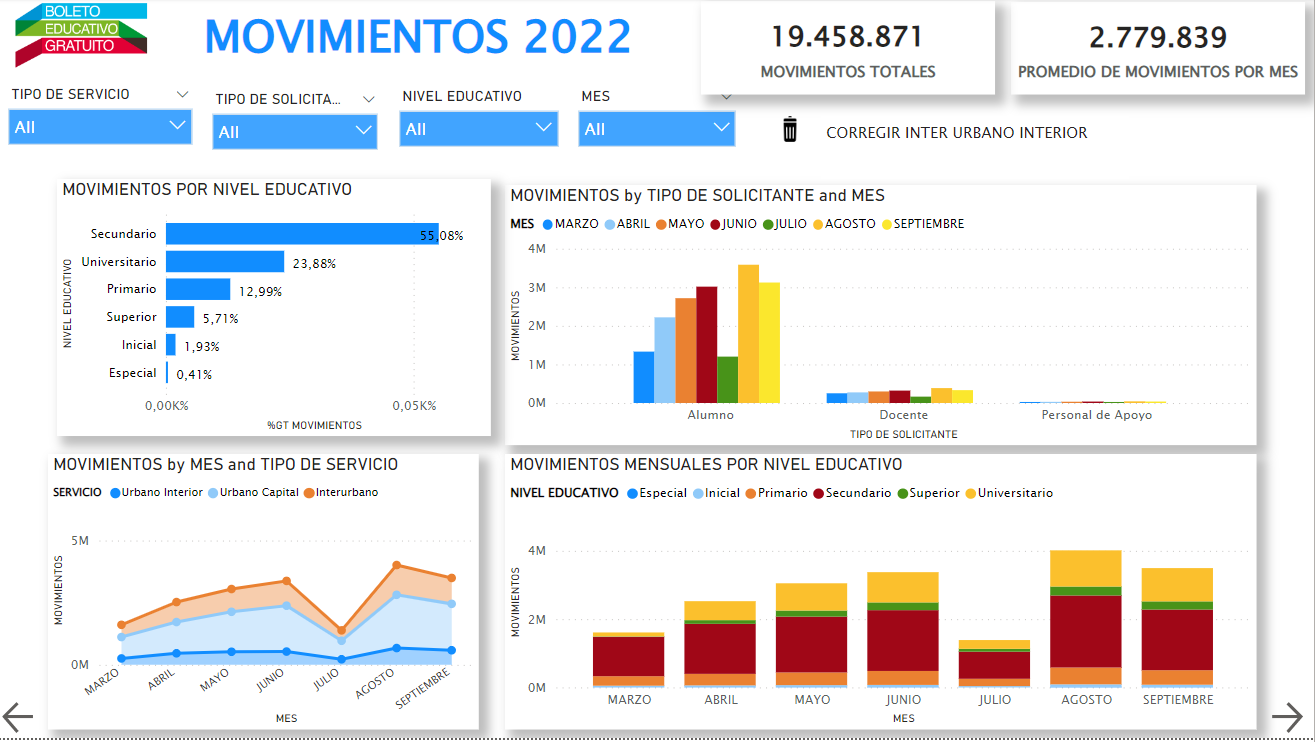

The dashboard page shown, as its layout file describes it:
{"tool":"powerbi","page":{"name":"MOVIMIENTOS","canvas":[1280,720],"ordinal":1},"visuals":[{"type":"clusteredColumnChart","fields":{"Category":["Movimientos.TIPO DE SOLICITANTE"],"Y":["Sum(Movimientos.MOVIMIENTOS)"],"Series":["Movimientos.MES"]},"box":[493.1,182.2,731.4,253.1],"z":0},{"type":"image","box":[0,0,162,80],"z":1000},{"type":"textbox","box":[189.2,0.9,438.8,80.6],"z":2000},{"type":"barChart","title":"MOVIMIENTOS POR NIVEL EDUCATIVO","fields":{"Category":["Movimientos.NIVEL EDUCATIVO"],"Y":["Divide(Sum(Movimientos.MOVIMIENTOS), ScopedEval(Sum(Movimientos.MOVIMIENTOS), []))"]},"box":[56.9,176.1,422.2,249.6],"z":3000},{"type":"lineStackedColumnComboChart","title":"MOVIMIENTOS MENSUALES POR NIVEL EDUCATIVO","fields":{"Y":["Sum(Movimientos.MOVIMIENTOS)"],"Category":["Movimientos.MES"],"Series":["Movimientos.NIVEL EDUCATIVO"]},"box":[493.1,443.2,731.4,268],"z":4000},{"type":"slicer","fields":{"Values":["Movimientos.MES"]},"box":[391.1,81.9,173.6,74.8],"z":6000},{"type":"stackedAreaChart","fields":{"Category":["Movimientos.MES"],"Y":["Sum(Movimientos.MOVIMIENTOS)"],"Series":["Movimientos.TIPO DE SERVICIO"]},"box":[48.2,443.2,418.7,268],"z":7000},{"type":"card","fields":{"Values":["Beneficiarios.Promedio de MOVIMIENTOS por MES"]},"box":[985,4,286,90],"z":8000},{"type":"actionButton","box":[1232.9,680,47.1,40],"z":9000},{"type":"image","box":[576,114.4,39.5,35.3],"z":10000},{"type":"card","fields":{"Values":["Sum(Movimientos.MOVIMIENTOS)"]},"box":[684,3,286,91],"z":11000},{"type":"slicer","fields":{"Values":["CLASIF SERV.TIPO DE SERVICIO"]},"box":[0,80,198.6,68.6],"z":12000},{"type":"actionButton","box":[0,680,48.6,40],"z":13000},{"type":"slicer","fields":{"Values":["Movimientos.TIPO DE SOLICITANTE"]},"box":[198.8,85,181.3,68.3],"z":14000}]}

Visuals, with their boxes in screenshot pixels (x1, y1, x2, y2), scaled from the page's 1280x720 canvas onto the 1315x742 screenshot:
clusteredColumnChart - Movimientos.TIPO DE SOLICITANTE x Sum(Movimientos.MOVIMIENTOS): (x1=507, y1=188, x2=1258, y2=449)
image: (x1=0, y1=0, x2=166, y2=82)
textbox: (x1=194, y1=1, x2=645, y2=84)
"MOVIMIENTOS POR NIVEL EDUCATIVO" barChart: (x1=58, y1=181, x2=492, y2=439)
"MOVIMIENTOS MENSUALES POR NIVEL EDUCATIVO" lineStackedColumnComboChart: (x1=507, y1=457, x2=1258, y2=733)
slicer - Movimientos.MES: (x1=402, y1=84, x2=580, y2=161)
stackedAreaChart - Movimientos.MES x Sum(Movimientos.MOVIMIENTOS): (x1=50, y1=457, x2=480, y2=733)
card - Beneficiarios.Promedio de MOVIMIENTOS por MES: (x1=1012, y1=4, x2=1306, y2=97)
actionButton: (x1=1267, y1=701, x2=1314, y2=741)
image: (x1=592, y1=118, x2=632, y2=154)
card - Sum(Movimientos.MOVIMIENTOS): (x1=703, y1=3, x2=997, y2=97)
slicer - CLASIF SERV.TIPO DE SERVICIO: (x1=0, y1=82, x2=204, y2=153)
actionButton: (x1=0, y1=701, x2=50, y2=741)
slicer - Movimientos.TIPO DE SOLICITANTE: (x1=204, y1=88, x2=390, y2=158)
